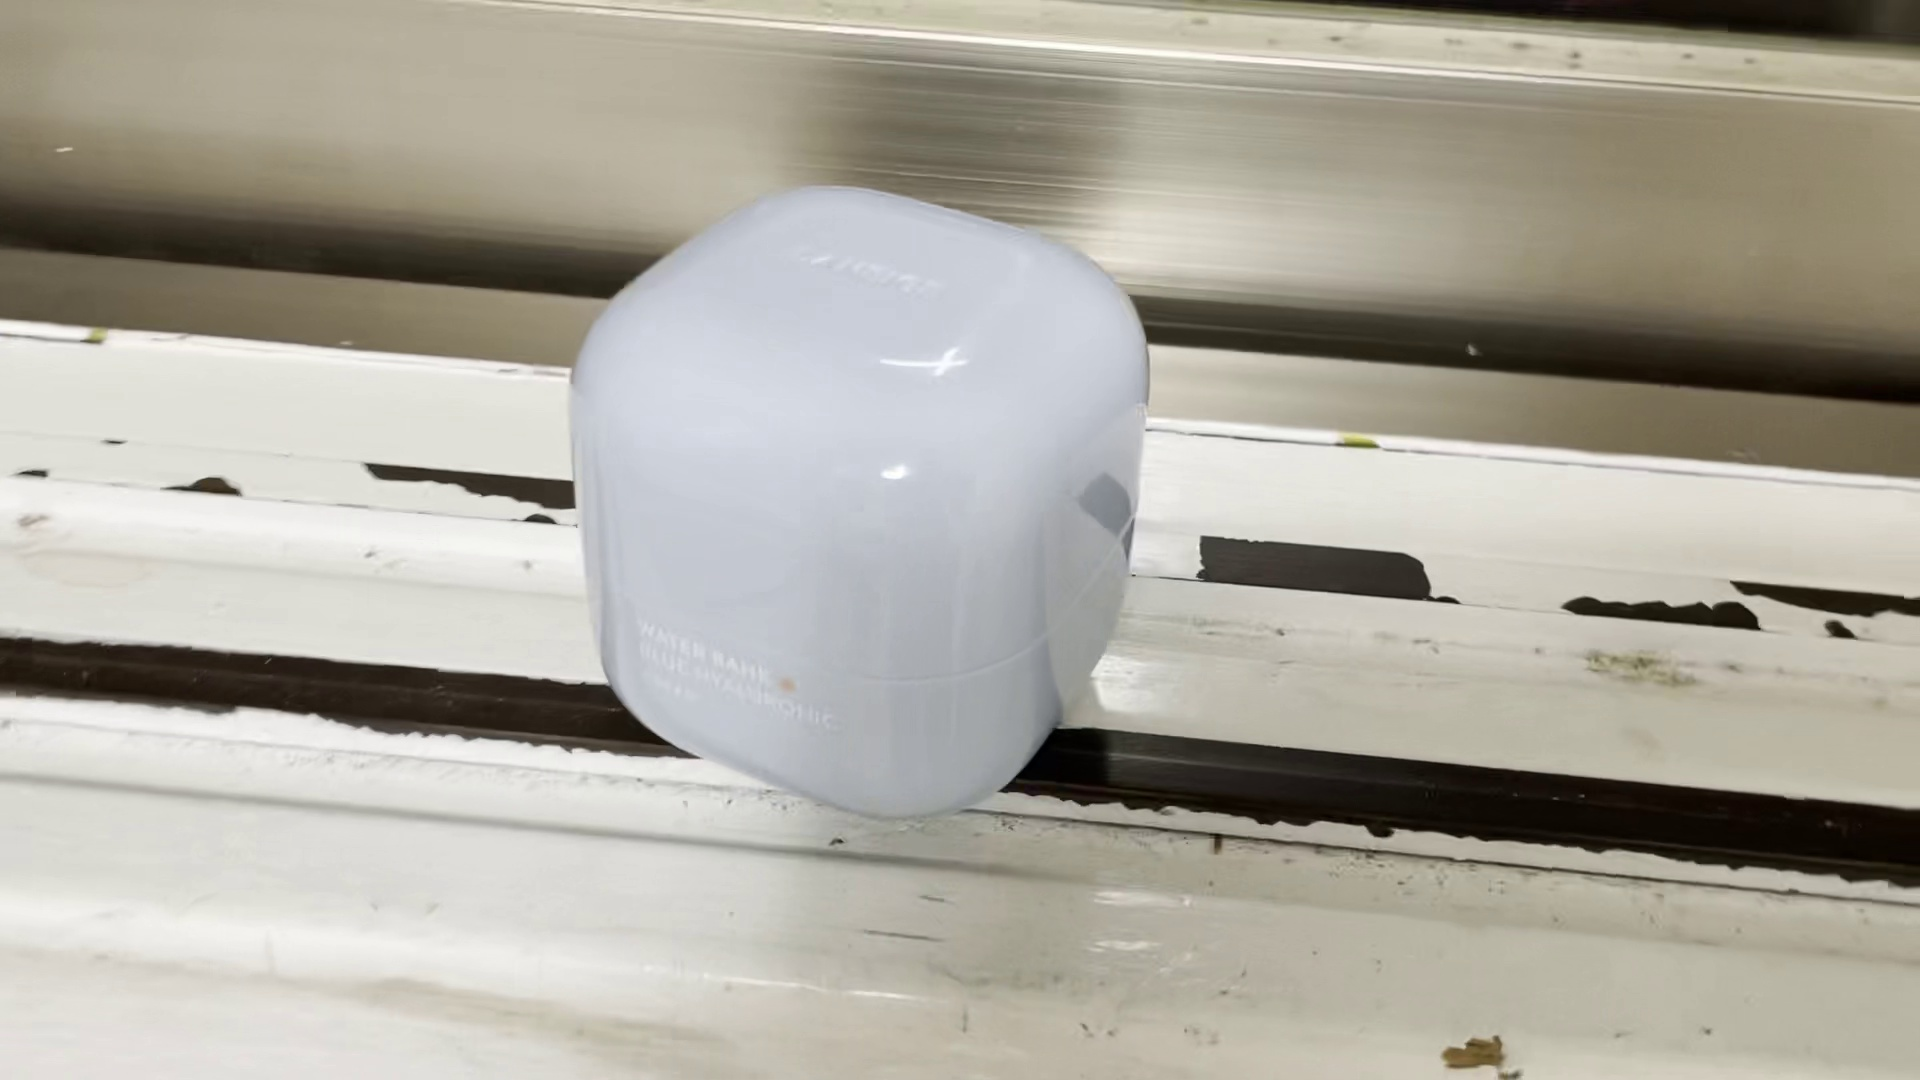cream: (571, 189, 1153, 815)
